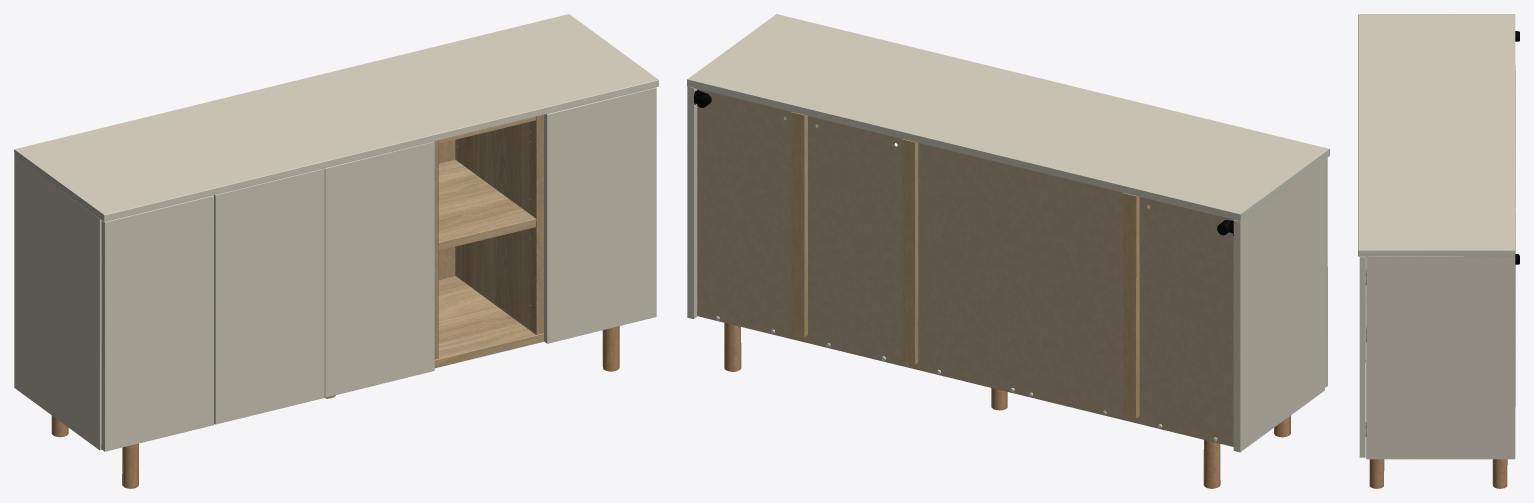
File: ledamot_szafka_40544740.glb
3 views of the same model, side by side, from view 1: azimuth 30°, elevation 25°; view 2: azimuth 150°, elevation 25°; view 3: azimuth 270°, elevation 25° (orthographic). The views are drawn at different scales.
Visible parts, largest first — view 1: ledamot_szafka_40544740; view 2: ledamot_szafka_40544740; view 3: ledamot_szafka_40544740.
Boxes of the visible parts, x1,y1,x2,y2 form: ledamot_szafka_40544740: (14, 14, 658, 488); ledamot_szafka_40544740: (687, 14, 1329, 488); ledamot_szafka_40544740: (1358, 14, 1519, 488).
Bounding box in the file's own units: 1.5 × 0.7477 × 0.434.
5 materials, 5 textured.
